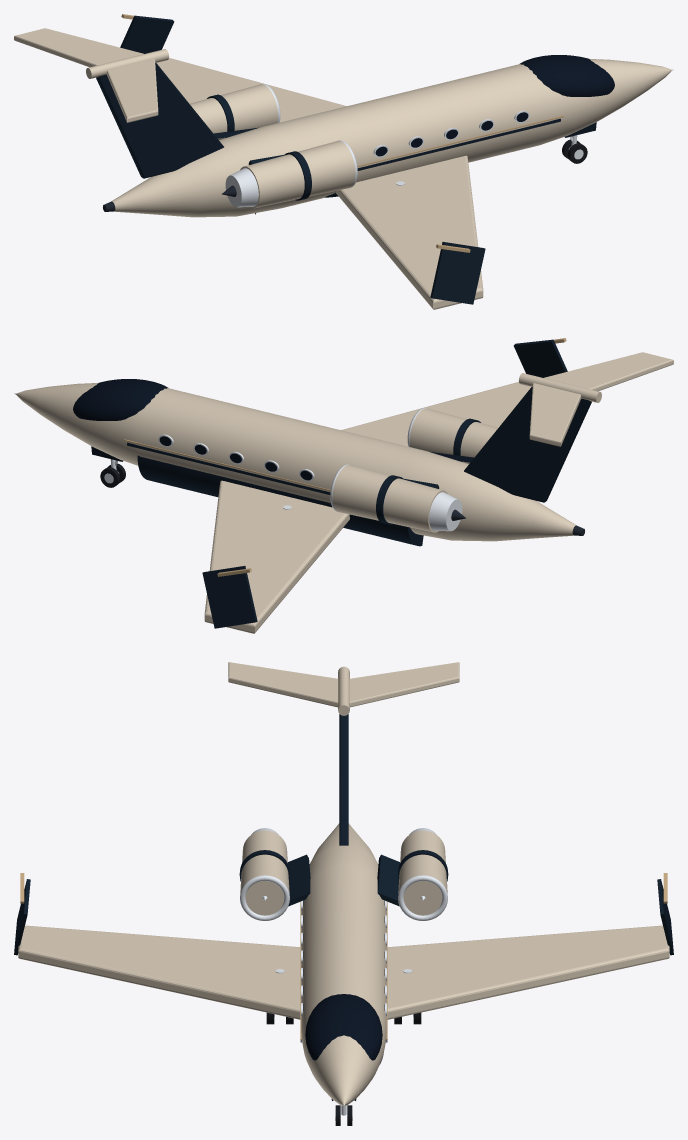
The model's file is sovereign_900x_jet.glb.
The picture shows the model from 3 angles, top to bottom: view 1: azimuth 30°, elevation 25°; view 2: azimuth 150°, elevation 25°; view 3: azimuth 270°, elevation 25°; orthographic projection. The views are drawn at different scales.
Visible parts, largest first — view 1: GTEX_Sovereign_900X_Jet; view 2: GTEX_Sovereign_900X_Jet; view 3: GTEX_Sovereign_900X_Jet.
Boxes of the visible parts, x1,y1,x2,y2 form: GTEX_Sovereign_900X_Jet: (14,14,673,309); GTEX_Sovereign_900X_Jet: (14,338,673,633); GTEX_Sovereign_900X_Jet: (14,662,673,1125).
Bounding box in the file's own units: 10.28 × 3.44 × 9.52.
